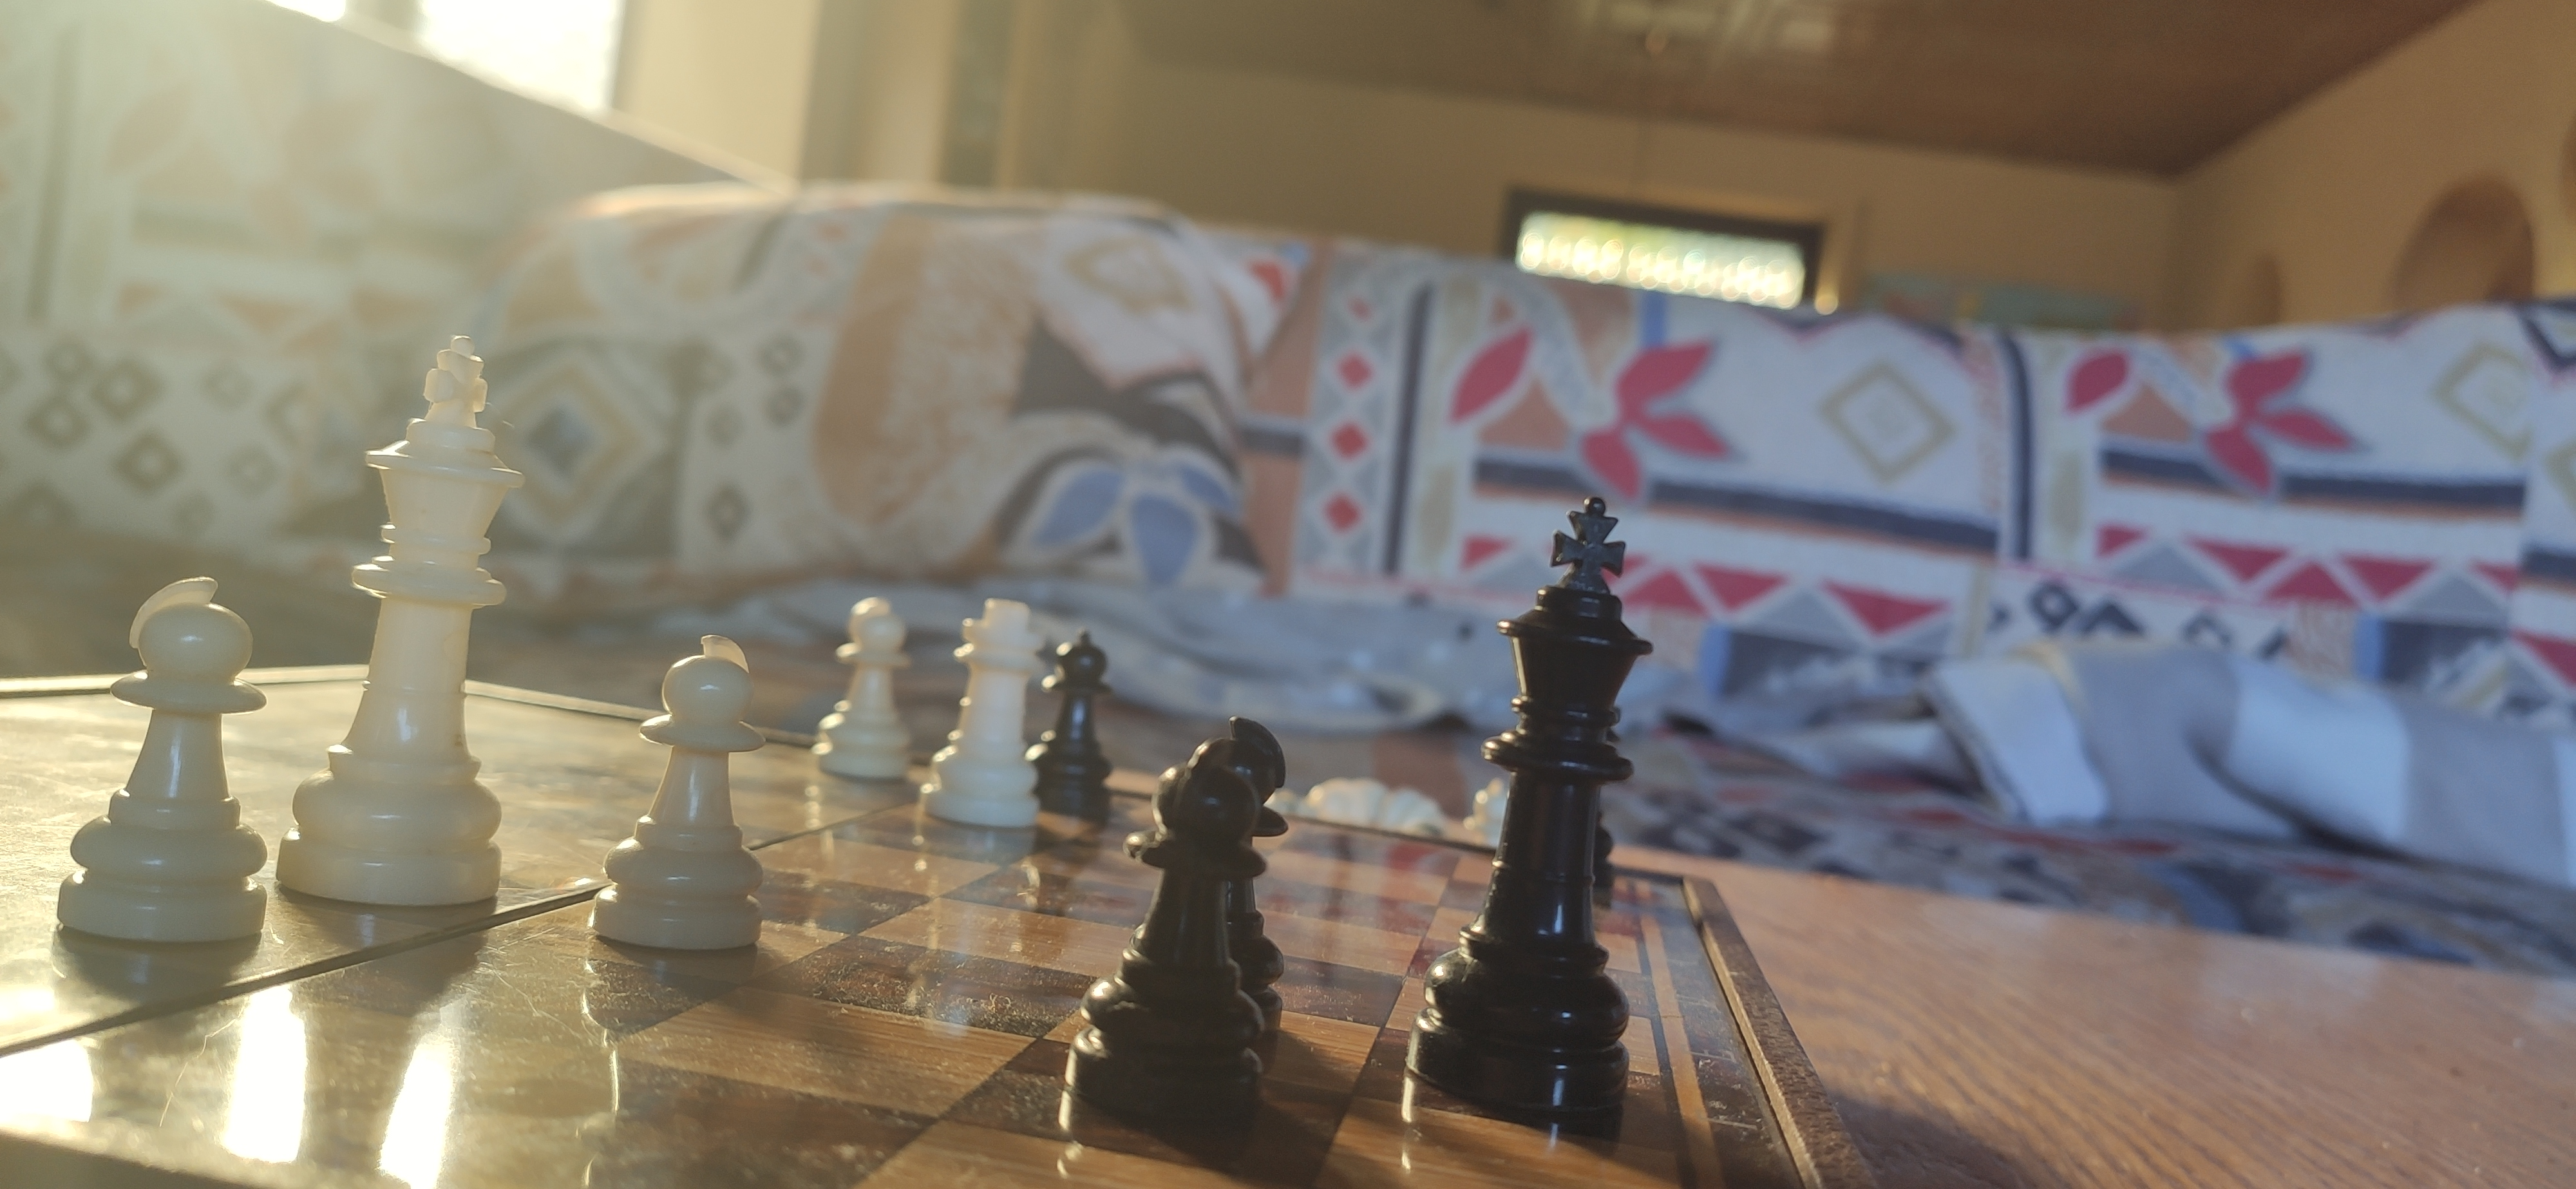BK: (1396, 453, 1654, 1118)
BP: (1069, 742, 1257, 1105), (1234, 703, 1296, 1038), (1033, 634, 1117, 819)
WK: (264, 307, 532, 911)
WP: (66, 573, 271, 949), (577, 649, 764, 956), (813, 580, 913, 778)
WR: (922, 580, 1045, 829)
